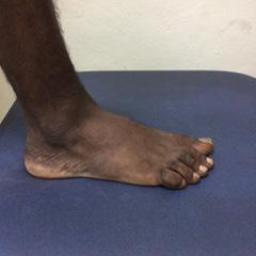Lateral View -Right Foot-: (8, 86, 221, 200)
